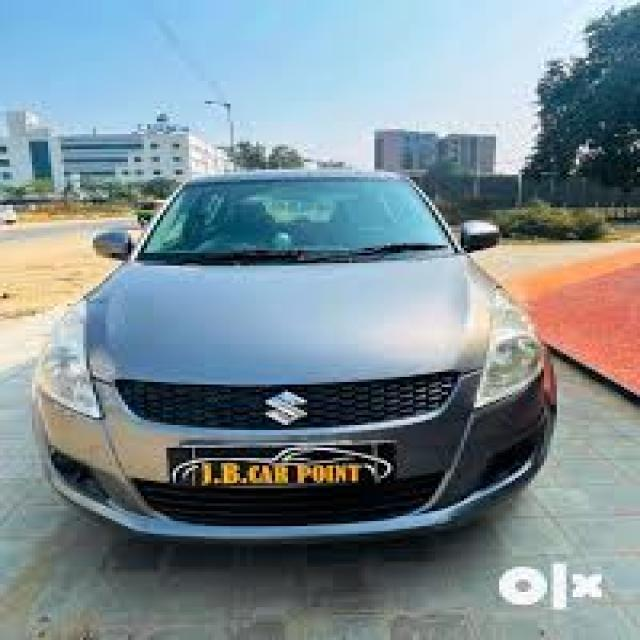cars: (30, 157, 568, 558)
